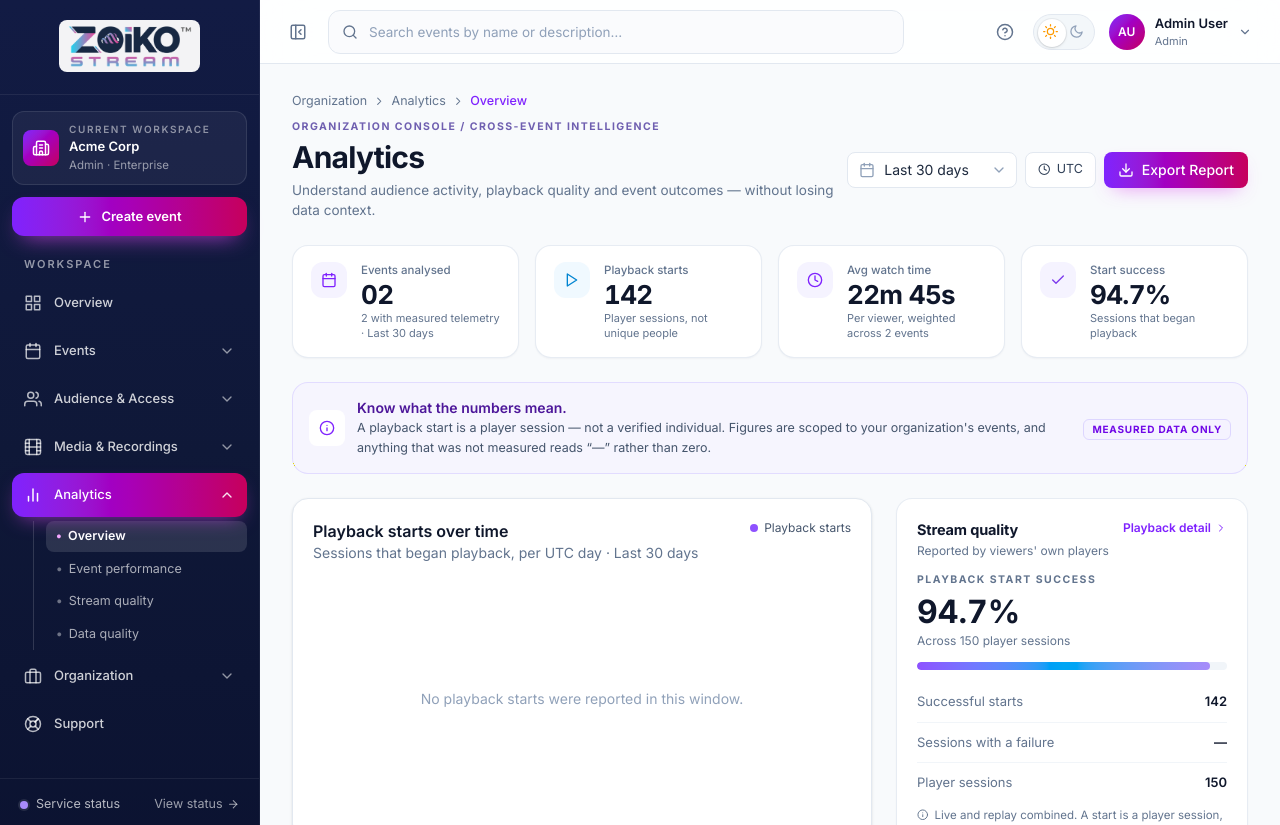
Scenario: Analytics Parent and Sub-Navigation › clicking parent Analytics expands submenu if collapsed
Expected: the heading "Analytics" is shown, [292,138,424,174]
Click the button named "Collapse Analytics": (227, 495) [213,479,241,511]
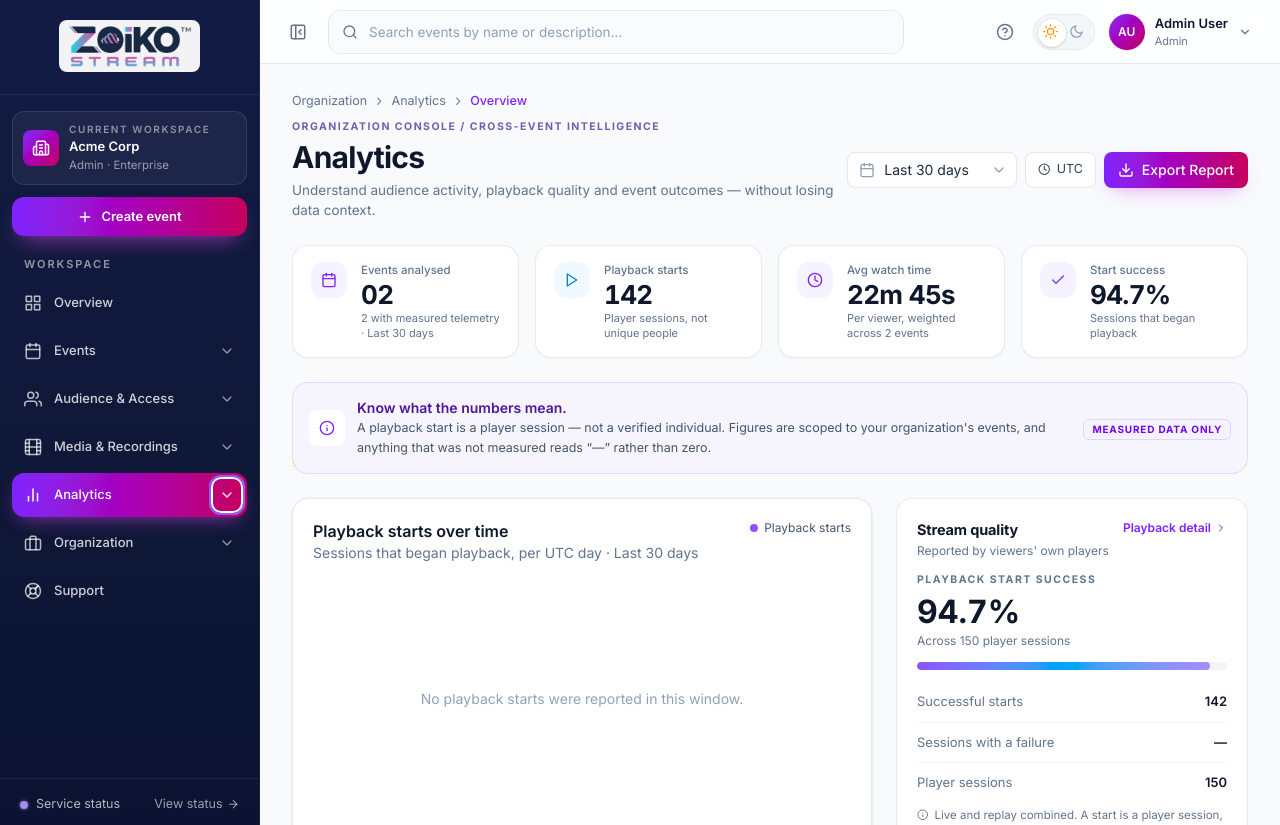
Clicking parent Analytics expands it
Click the link "Analytics" below "Media & Recordings": (130, 495) [12,473,247,517]
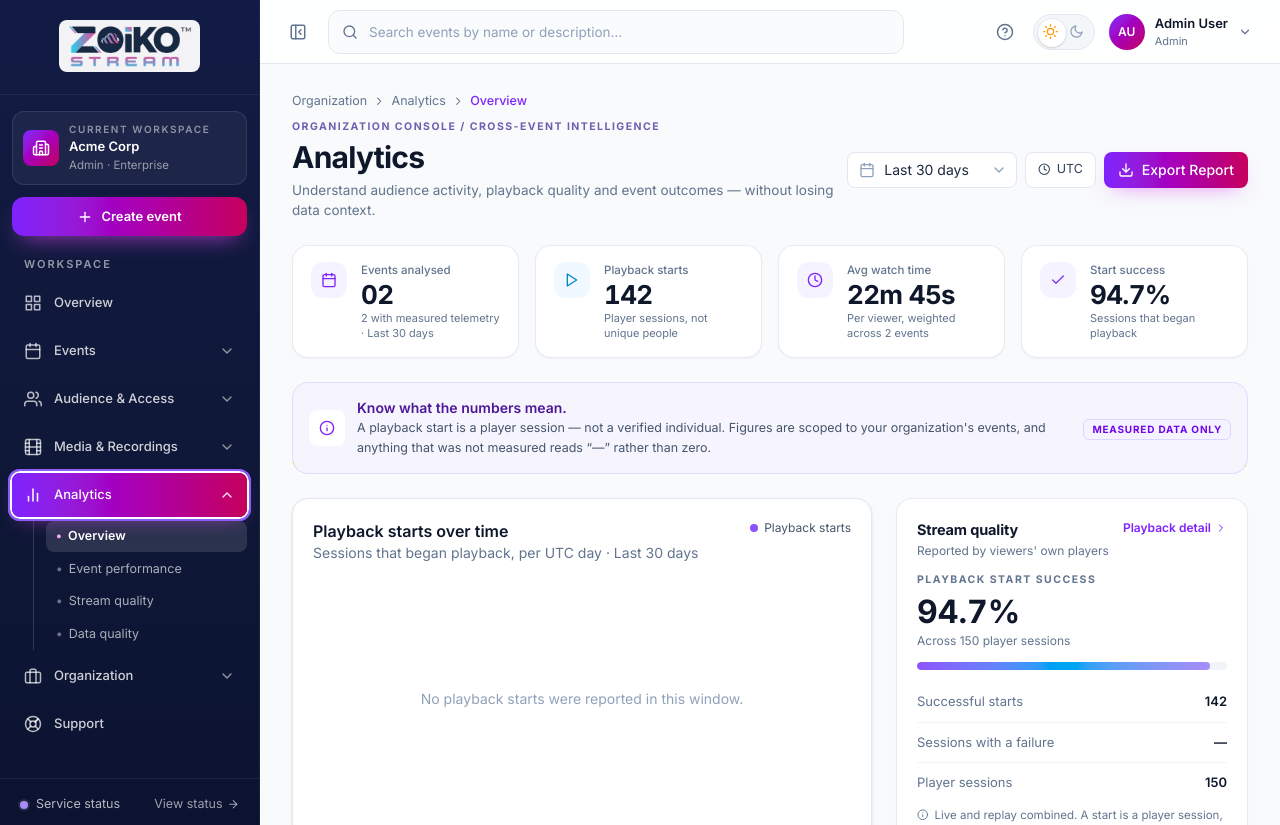
Now the link with aria-label "Analytics overview" is shown, box [46,521,247,552]
